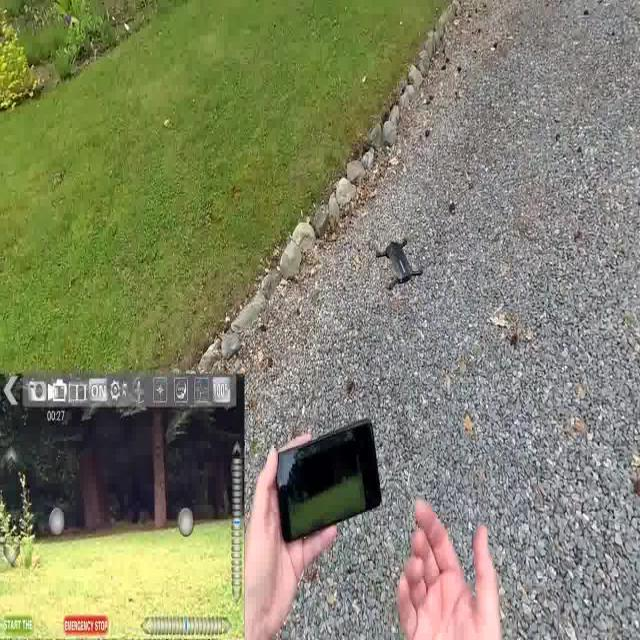Drone_FW: (363, 231, 423, 300)
